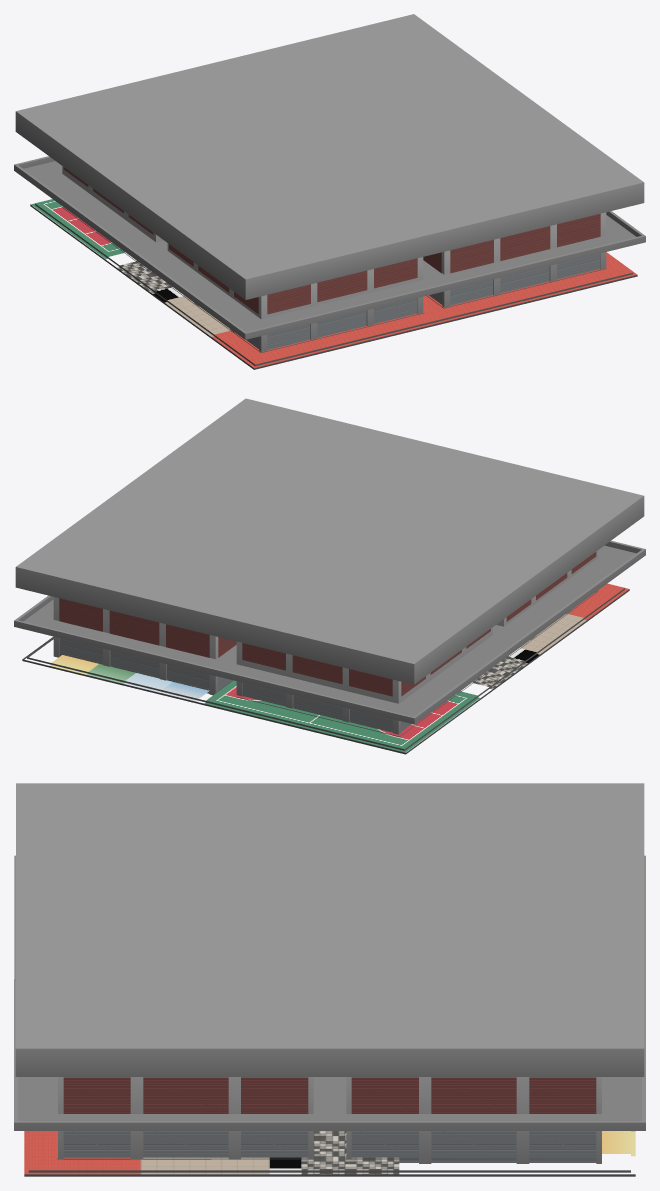
File: Pasar2.fbx
3 views of the same model, one above another, from view 1: azimuth 30°, elevation 25°; view 2: azimuth 150°, elevation 25°; view 3: azimuth 270°, elevation 25° (orthographic). The views are drawn at different scales.
Visible parts, largest first — view 1: Cube.076, Cube.075, Cube.078, Cube.081, Cube.077, Cube.079, Cube.073, Cube.072, Cube.084; view 2: Cube.076, Cube.075, Cube.083, Cube.086, Cube.084, Cube.082, Cube.085, Cube.080; view 3: Cube.076, Cube.075, Cube.078, Cube.083, Cube.082, Cube.077, Cube.080, Cube.072.
Boxes of the visible parts, x1=… form: Cube.076: x1=14, y1=14, x2=645, y2=339; Cube.075: x1=30, y1=199, x2=637, y2=369; Cube.078: x1=423, y1=213, x2=600, y2=273; Cube.081: x1=169, y1=244, x2=417, y2=314; Cube.077: x1=429, y1=253, x2=599, y2=305; Cube.079: x1=246, y1=298, x2=416, y2=349; Cube.073: x1=167, y1=243, x2=423, y2=351; Cube.072: x1=441, y1=212, x2=606, y2=307; Cube.084: x1=62, y1=166, x2=163, y2=241; Cube.076: x1=14, y1=398, x2=645, y2=724; Cube.075: x1=22, y1=583, x2=629, y2=754; Cube.083: x1=59, y1=598, x2=236, y2=657; Cube.086: x1=242, y1=629, x2=490, y2=696; Cube.084: x1=236, y1=627, x2=492, y2=734; Cube.082: x1=60, y1=638, x2=232, y2=693; Cube.085: x1=243, y1=683, x2=411, y2=732; Cube.080: x1=53, y1=597, x2=218, y2=695; Cube.076: x1=14, y1=783, x2=645, y2=1130; Cube.075: x1=24, y1=1131, x2=635, y2=1176; Cube.078: x1=63, y1=1077, x2=308, y2=1113; Cube.083: x1=351, y1=1077, x2=596, y2=1113; Cube.082: x1=351, y1=1131, x2=596, y2=1162; Cube.077: x1=63, y1=1131, x2=308, y2=1157; Cube.080: x1=346, y1=1077, x2=601, y2=1163; Cube.072: x1=58, y1=1077, x2=313, y2=1159.
Bounding box in the file's own units: 6703 × 1527 × 6705.
